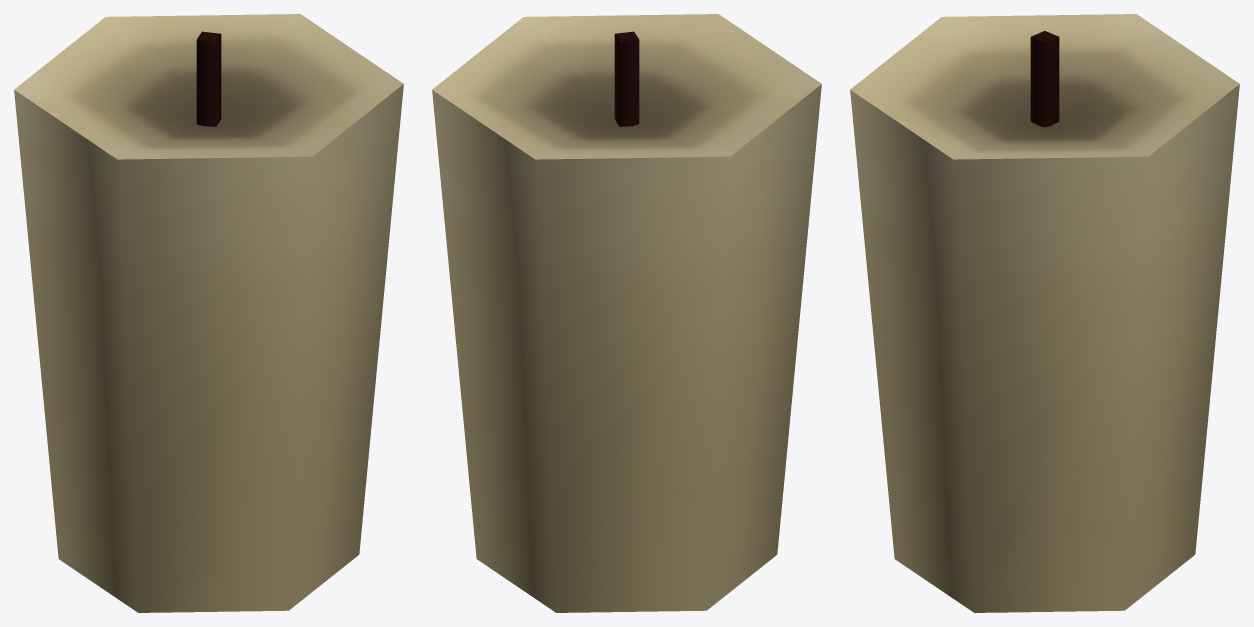
The model's file is Dg_01_candle_002.FBX.
3 renders of one model, left to right at view 1: azimuth 30°, elevation 25°; view 2: azimuth 150°, elevation 25°; view 3: azimuth 270°, elevation 25°, orthographic.
Parts seen in each view (by area): view 1: Dg_01_candle_002; view 2: Dg_01_candle_002; view 3: Dg_01_candle_002.
Part boxes in pixels (bbox=[...]): Dg_01_candle_002: bbox=[14, 14, 403, 612]; Dg_01_candle_002: bbox=[432, 14, 821, 612]; Dg_01_candle_002: bbox=[850, 14, 1239, 612].
Bounding box in the file's own units: 0.2999 × 0.4996 × 0.3395.
